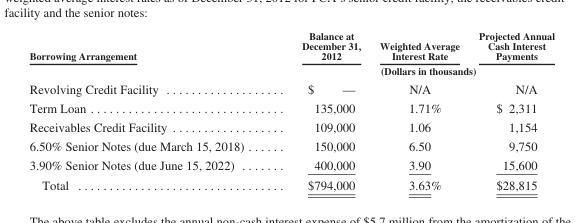table: (28, 29, 553, 191)
table column: (28, 29, 272, 191), (369, 29, 468, 191), (272, 29, 369, 191), (468, 29, 553, 191)
table column header: (28, 29, 553, 79)
table row: (28, 29, 553, 63), (28, 79, 553, 98), (28, 98, 553, 117), (28, 117, 553, 136), (28, 136, 553, 155), (28, 155, 553, 174), (28, 174, 553, 191), (28, 63, 553, 79)
table spanning cell: (28, 29, 272, 79), (272, 63, 553, 79)
